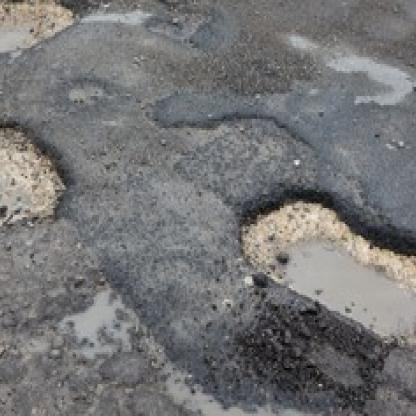pothole: (237, 184, 416, 382), (0, 121, 69, 236), (0, 0, 87, 60), (101, 0, 213, 43)
